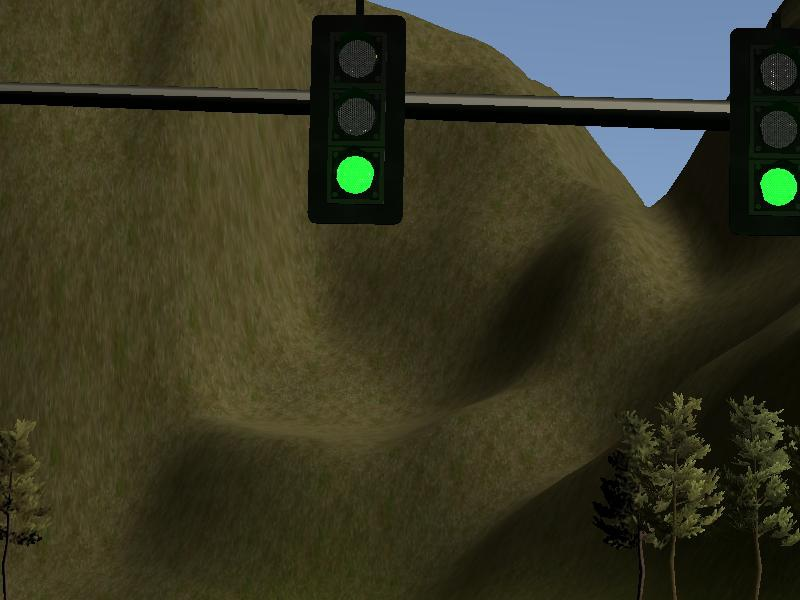green_light: (311, 17, 400, 224), (733, 32, 800, 231)
